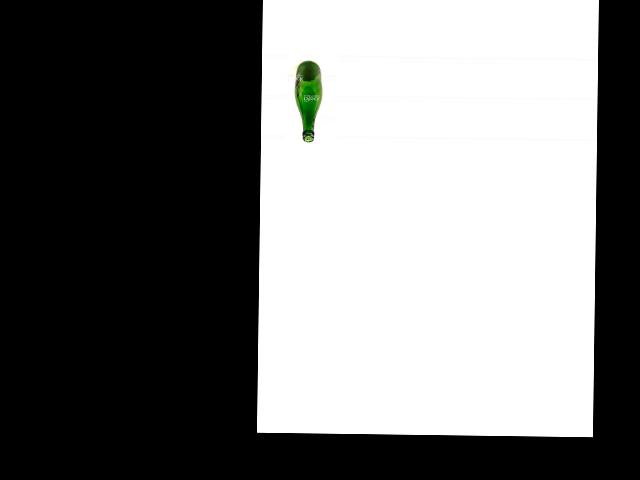beer: (294, 60, 323, 142)
